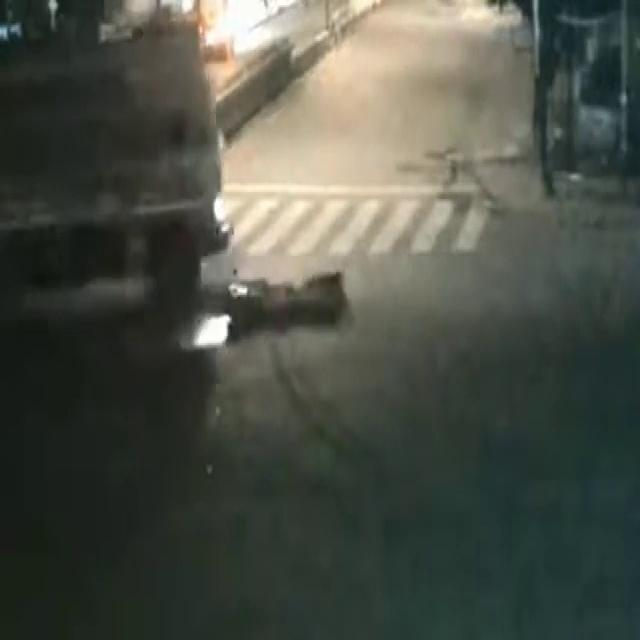accident: (0, 67, 367, 399)
